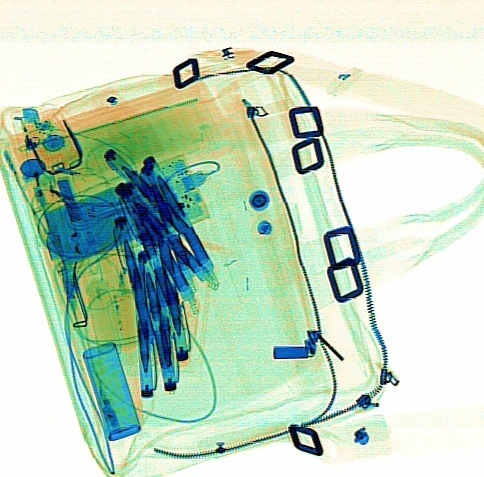lighter: (11, 106, 55, 195)
